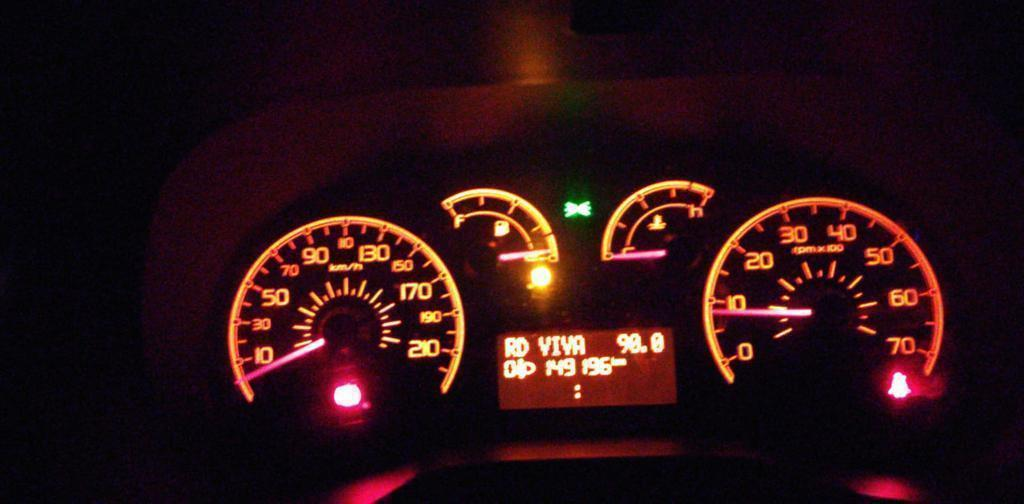,: (640, 344, 648, 353)
0: (650, 331, 664, 353), (628, 332, 641, 353), (503, 359, 516, 378)
1: (545, 359, 552, 377), (581, 358, 587, 375)
4: (551, 359, 563, 376)
6: (599, 356, 612, 375)
9: (616, 333, 629, 354), (587, 356, 599, 376), (563, 357, 575, 376)
X: (571, 334, 586, 355), (537, 335, 551, 357), (503, 337, 517, 358), (516, 336, 529, 357), (560, 334, 573, 355), (550, 335, 561, 357), (573, 383, 581, 399)
odometer: (494, 325, 678, 411)
